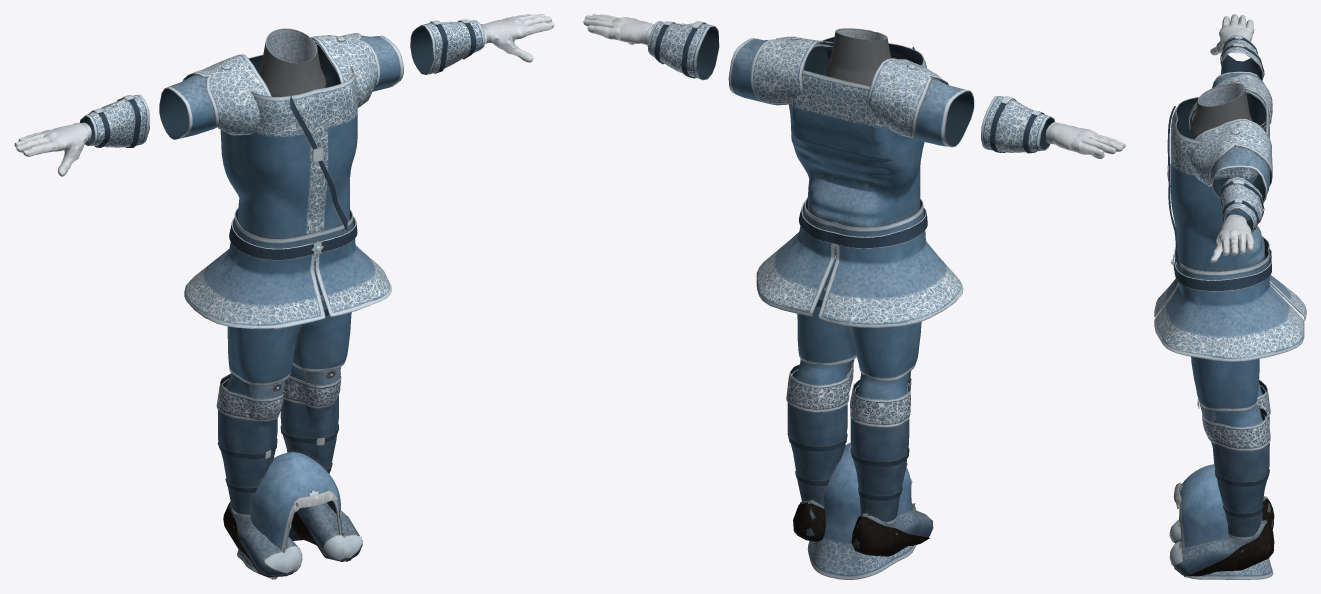
Rendered from light_glacial.glb.
3 views of the same model, side by side, from view 1: azimuth 30°, elevation 25°; view 2: azimuth 150°, elevation 25°; view 3: azimuth 270°, elevation 25° (orthographic). The views are drawn at different scales.
Visible parts, largest first — view 1: chest, feet, gloves, legs, hood; view 2: chest, feet, gloves, legs, hood; view 3: chest, feet, gloves, hood, legs.
Part boxes in pixels (x1,y1,x2,y2): chest: (159, 28, 403, 328); feet: (216, 372, 362, 576); gloves: (14, 14, 554, 176); legs: (225, 261, 351, 398); hood: (237, 452, 351, 579); chest: (728, 28, 974, 327); feet: (786, 364, 933, 556); gloves: (583, 14, 1125, 158); legs: (795, 249, 921, 399); hood: (807, 442, 916, 579); chest: (1154, 71, 1306, 361); feet: (1169, 380, 1274, 576); gloves: (1210, 14, 1264, 262); hood: (1173, 464, 1273, 579); legs: (1191, 357, 1262, 426).
Bounding box in the file's own units: 1.8 × 1.7 × 0.4879.
Materials: 5 (5 with a texture image).
